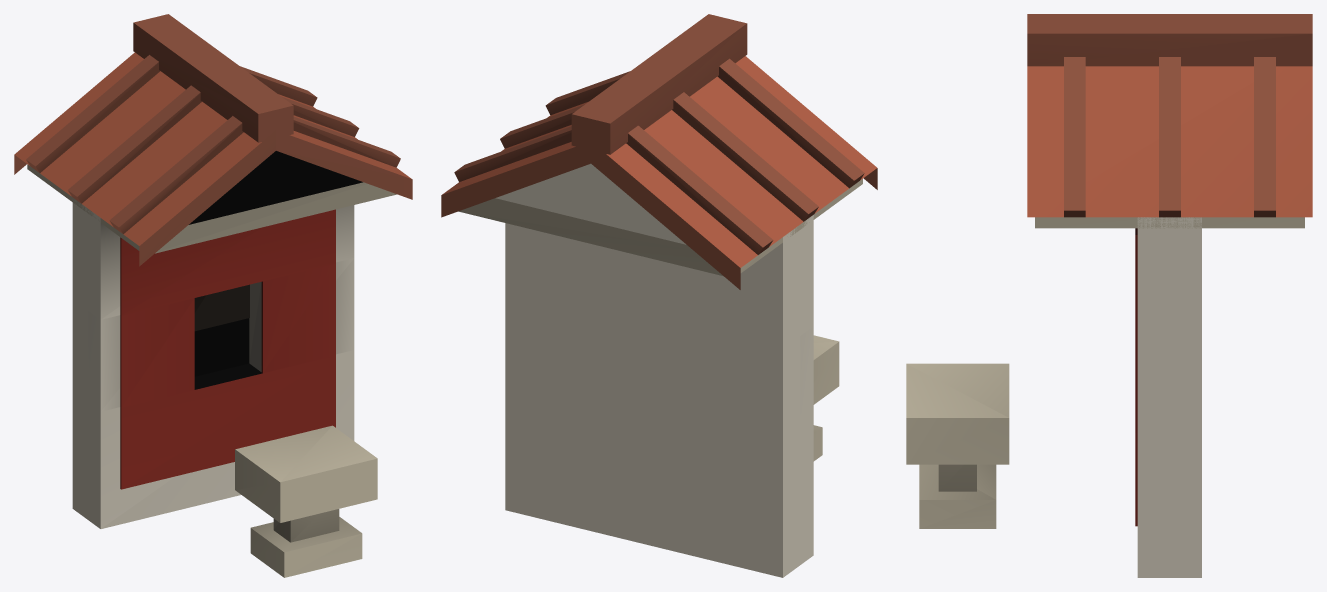
File: rome_compitum.glb
The picture shows the model from 3 angles, left to right: view 1: azimuth 30°, elevation 25°; view 2: azimuth 150°, elevation 25°; view 3: azimuth 270°, elevation 25°; orthographic projection. The views are drawn at different scales.
Visible parts, largest first — view 1: rome_compitum; view 2: rome_compitum; view 3: rome_compitum.
Boxes of the visible parts, left/top/right/bottom form: rome_compitum: left=14, top=14, right=412, bottom=577; rome_compitum: left=441, top=14, right=877, bottom=577; rome_compitum: left=906, top=14, right=1312, bottom=577.
Size of the model in its own units: 2.89 by 4.15 by 3.16.
